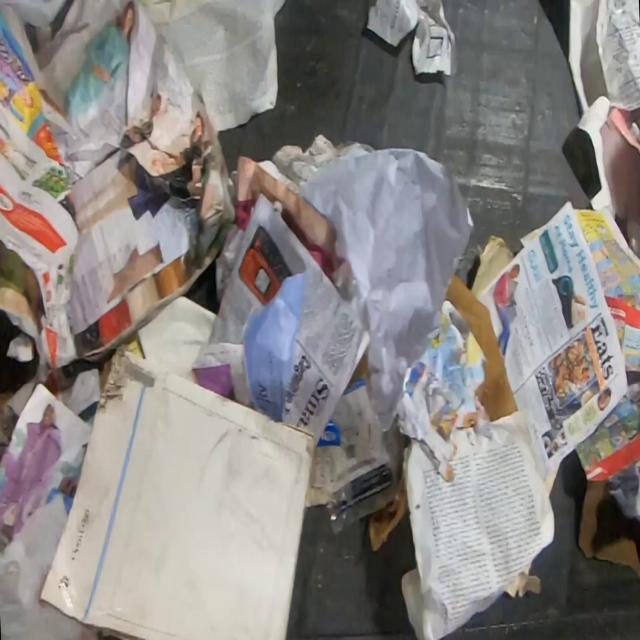cardboard: (37, 344, 317, 640), (469, 234, 516, 298), (505, 561, 543, 598)
soft_plastic: (325, 415, 404, 535)
